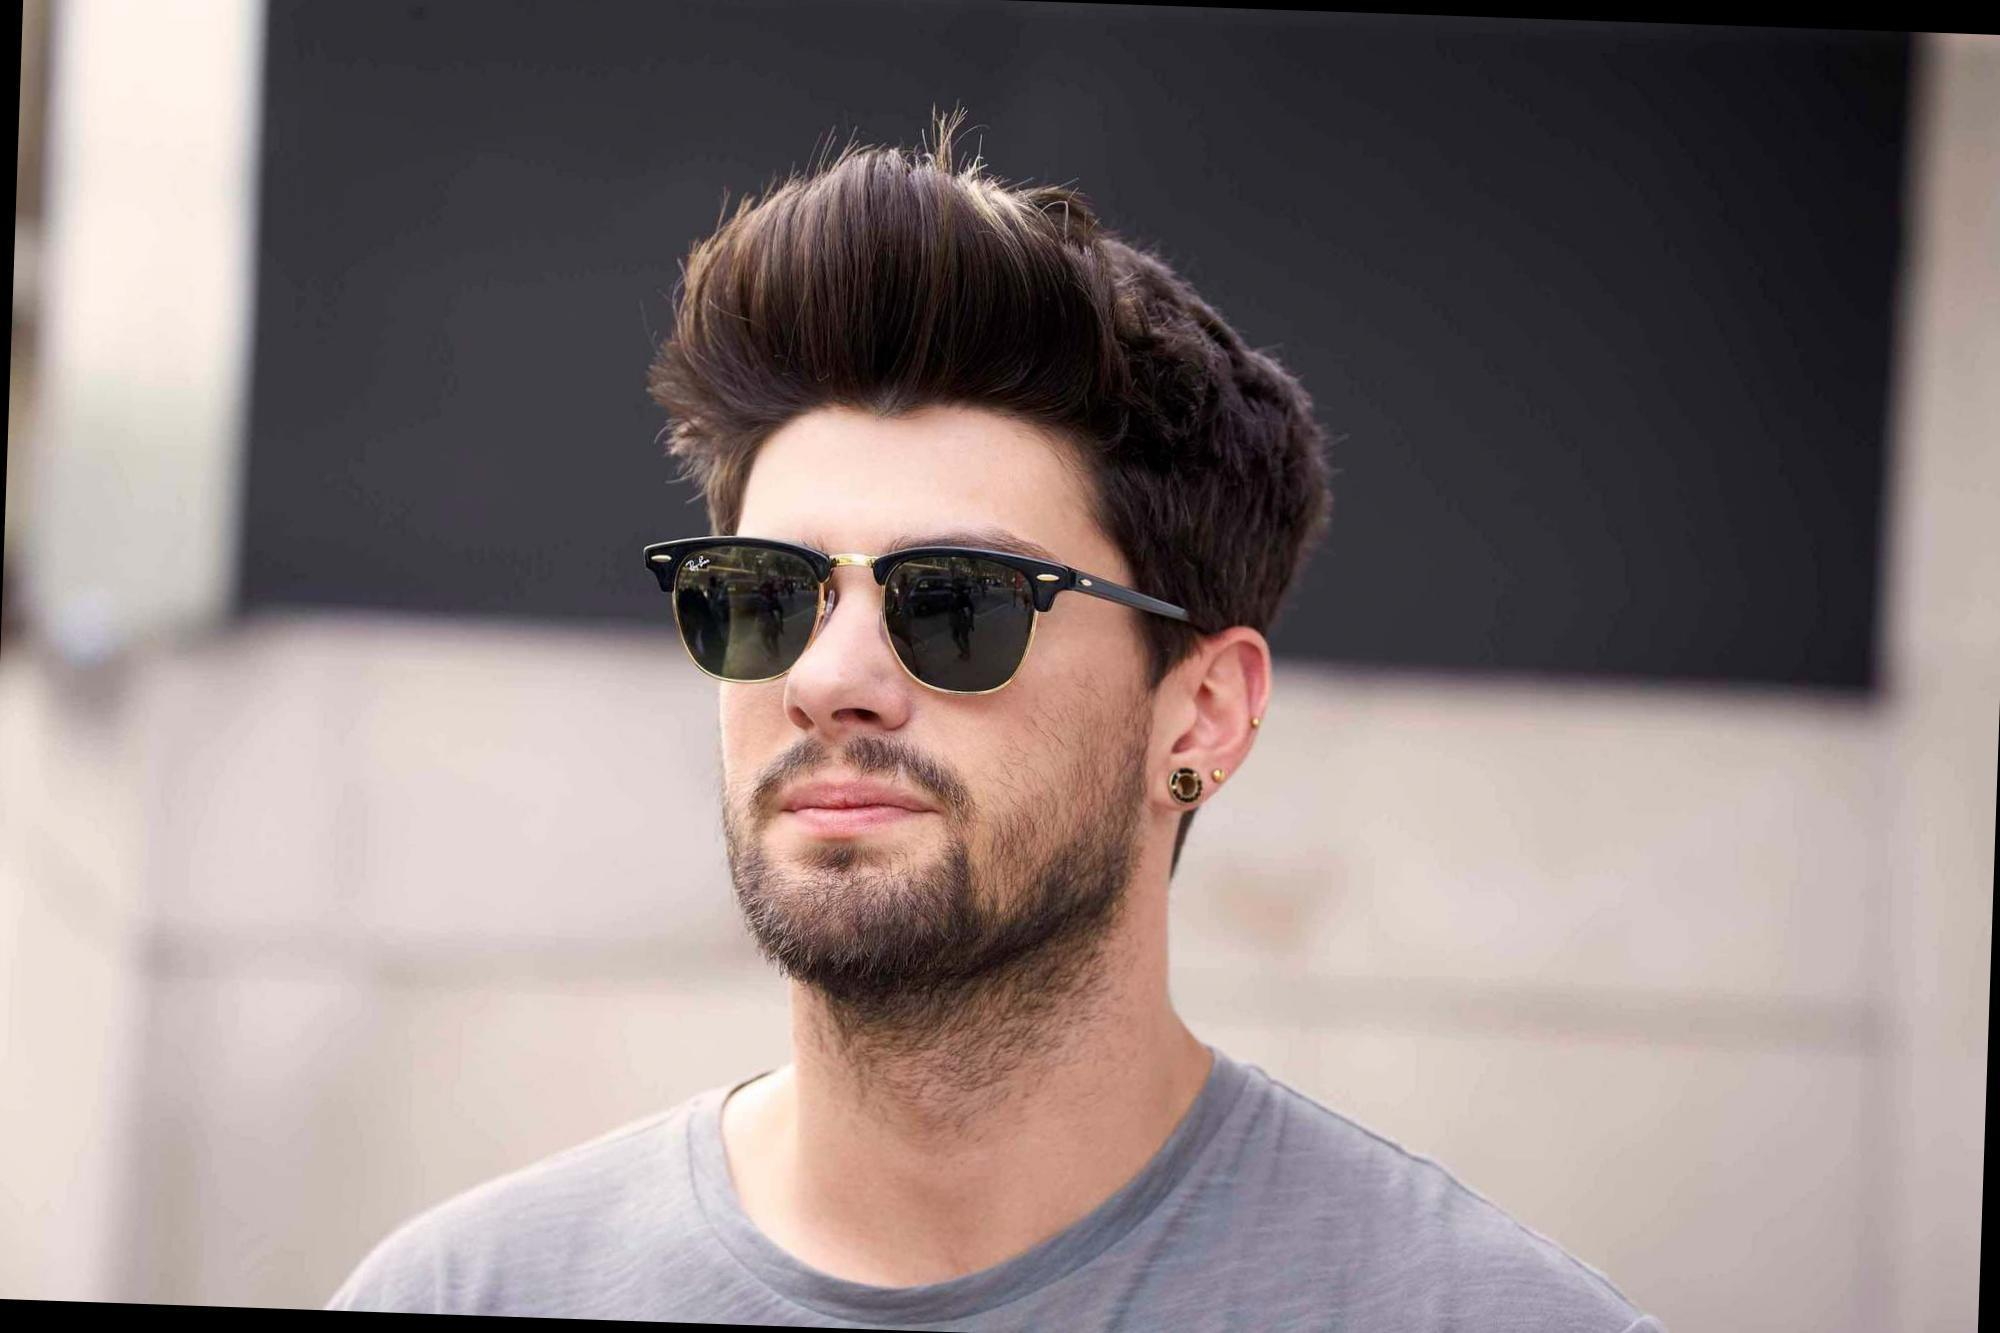Sober: (735, 451, 1149, 939)
